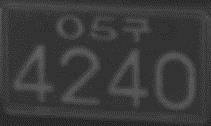0: (155, 50, 197, 111), (55, 13, 86, 41)
2: (59, 45, 101, 108)
4: (107, 46, 149, 109), (12, 43, 54, 104)
5: (89, 14, 117, 42)
구: (121, 15, 152, 43)
